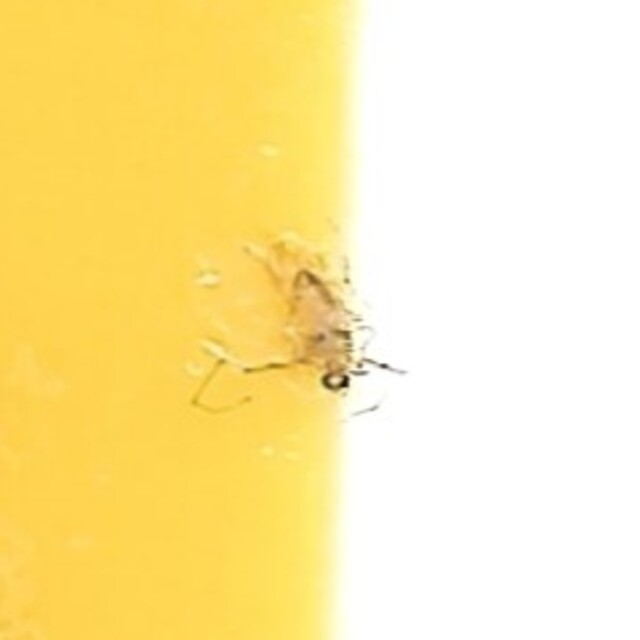Nematocera: (267, 236, 373, 404)
